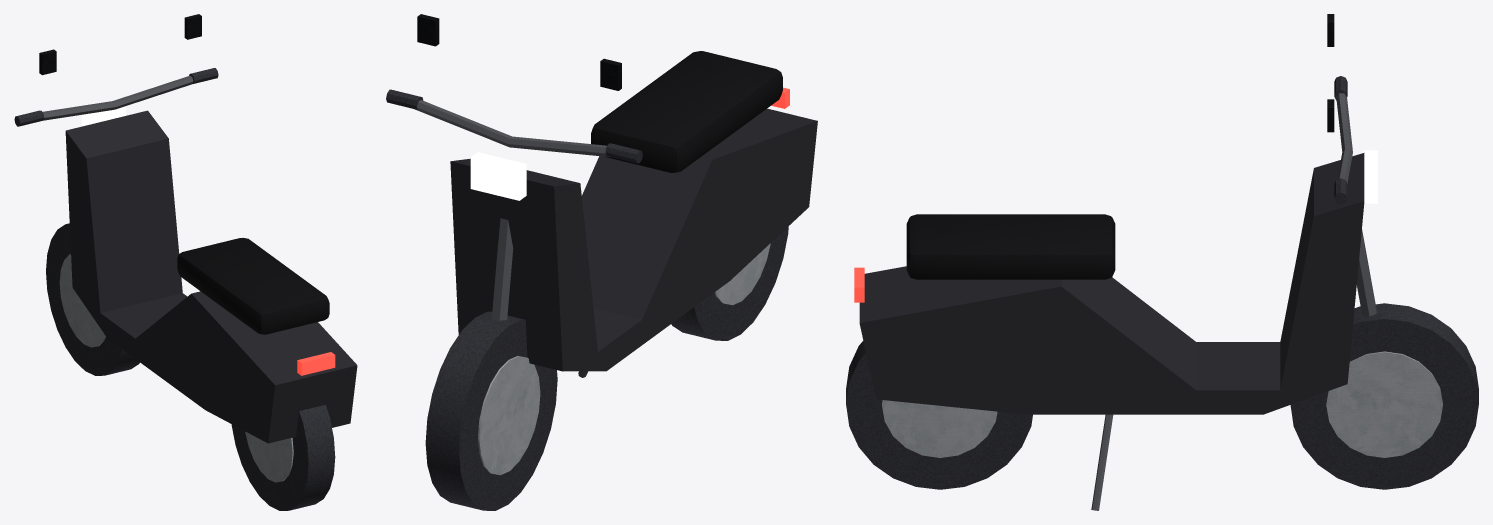
Rendered from scooter_black.gltf.
The picture shows the model from 3 angles, left to right: view 1: azimuth 30°, elevation 25°; view 2: azimuth 150°, elevation 25°; view 3: azimuth 270°, elevation 25°; orthographic projection. The views are drawn at different scales.
Parts seen in each view (by area): view 1: scooter_black; view 2: scooter_black; view 3: scooter_black.
Part boxes in pixels (<box>): scooter_black: <box>14,14,357,510</box>; scooter_black: <box>386,14,817,510</box>; scooter_black: <box>846,14,1478,510</box>.
Bounding box in the file's own units: 0.82 × 1.38 × 1.88.
Materials: 9 (6 with a texture image).
